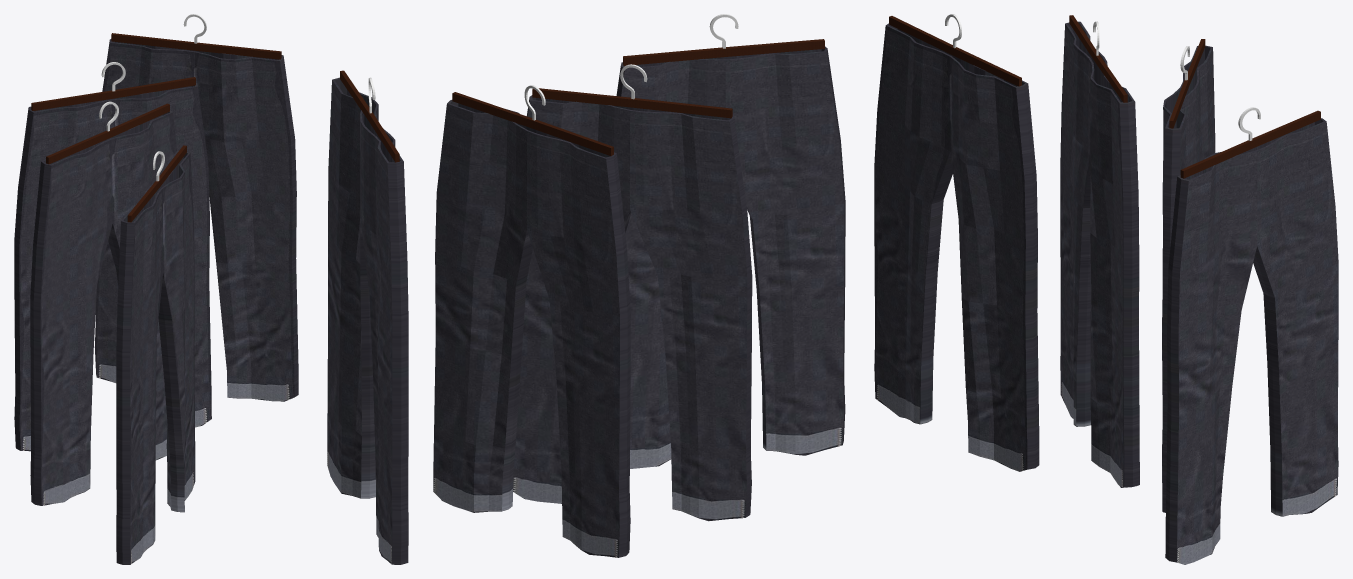
The model's file is jack_o_1.glb.
3 renders of one model, left to right at view 1: azimuth 30°, elevation 25°; view 2: azimuth 150°, elevation 25°; view 3: azimuth 270°, elevation 25°, orthographic. The views are drawn at different scales.
Visible parts, largest first — view 1: Plane.060; view 2: Plane.060; view 3: Plane.060.
Part boxes in pixels (x1=…): Plane.060: x1=14, y1=14, x2=298, y2=564; Plane.060: x1=327, y1=14, x2=845, y2=564; Plane.060: x1=874, y1=14, x2=1338, y2=564.
Size of the model in its own units: 0.4084 by 0.4706 by 0.4666.
3 materials, 3 textured.
